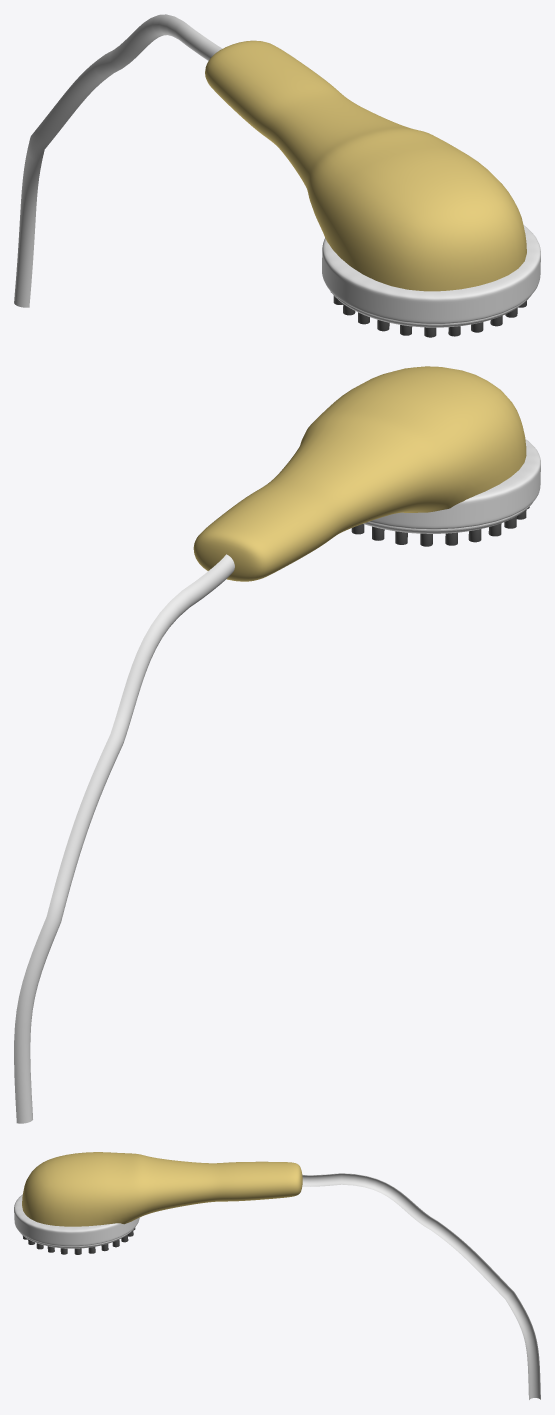
File: ShowerHead.fbx
3 renders of one model, top to bottom at view 1: azimuth 30°, elevation 25°; view 2: azimuth 150°, elevation 25°; view 3: azimuth 270°, elevation 25°, orthographic. The views are drawn at different scales.
Visible parts, largest first — view 1: Cylinder.003; view 2: Cylinder.003; view 3: Cylinder.003.
Boxes of the visible parts, bbox=[...] form: Cylinder.003: bbox=[14, 14, 540, 337]; Cylinder.003: bbox=[14, 366, 540, 1123]; Cylinder.003: bbox=[14, 1152, 540, 1399].
Bounding box in the file's own units: 700 × 1497 × 2943.
